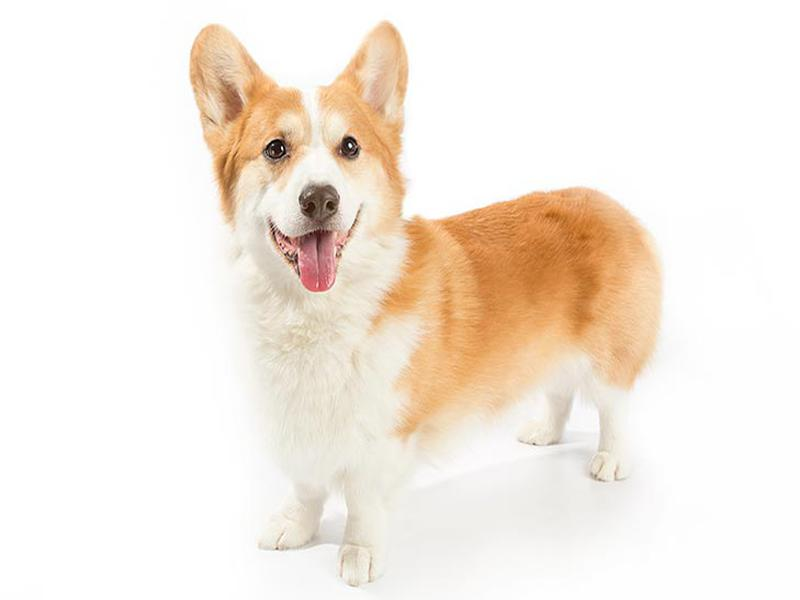corgi: (185, 22, 421, 299)
